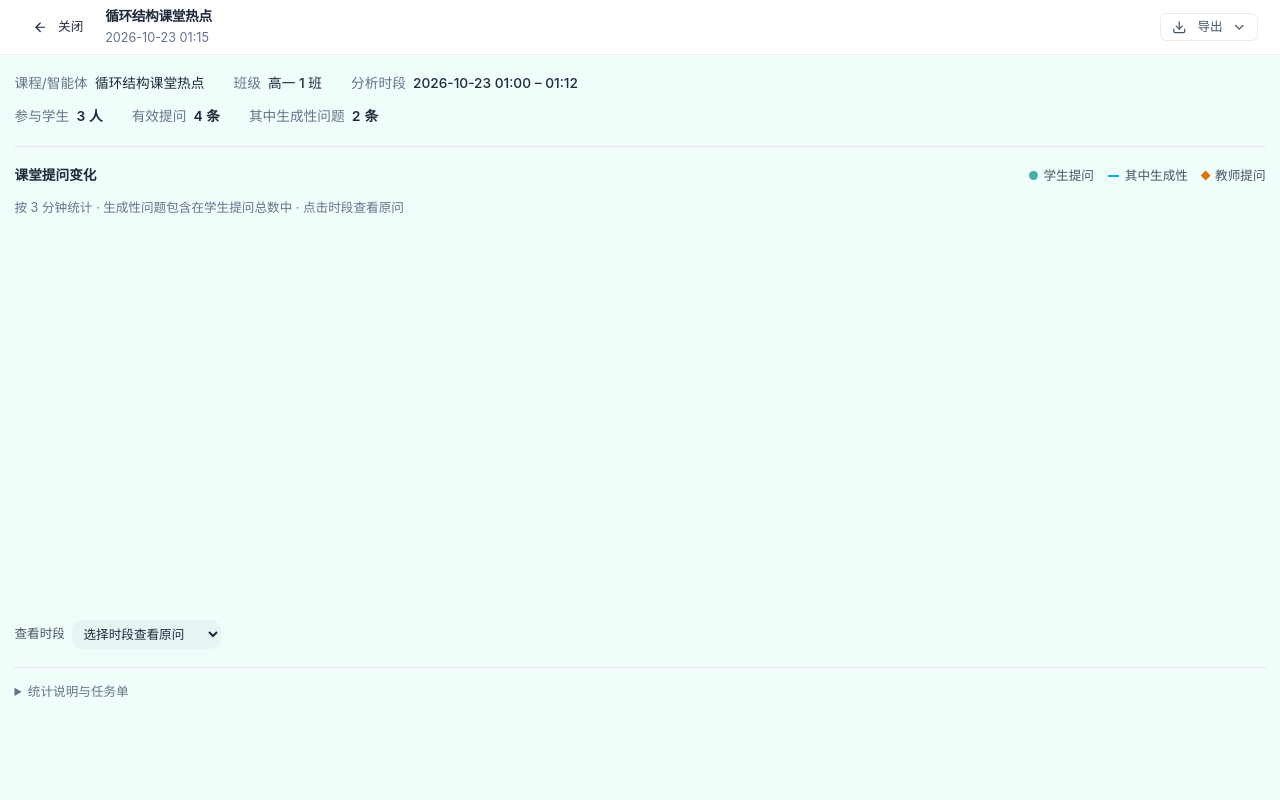
Test case: HotAnalysisResultPage › 只有摘要的旧记录明确标注，不能从摘要伪造逐条分类
Select "01:00 – 01:03 · 3 条" in the dropdown labelled "查看时段". click: point(146, 634)
box: [72, 620, 221, 649]
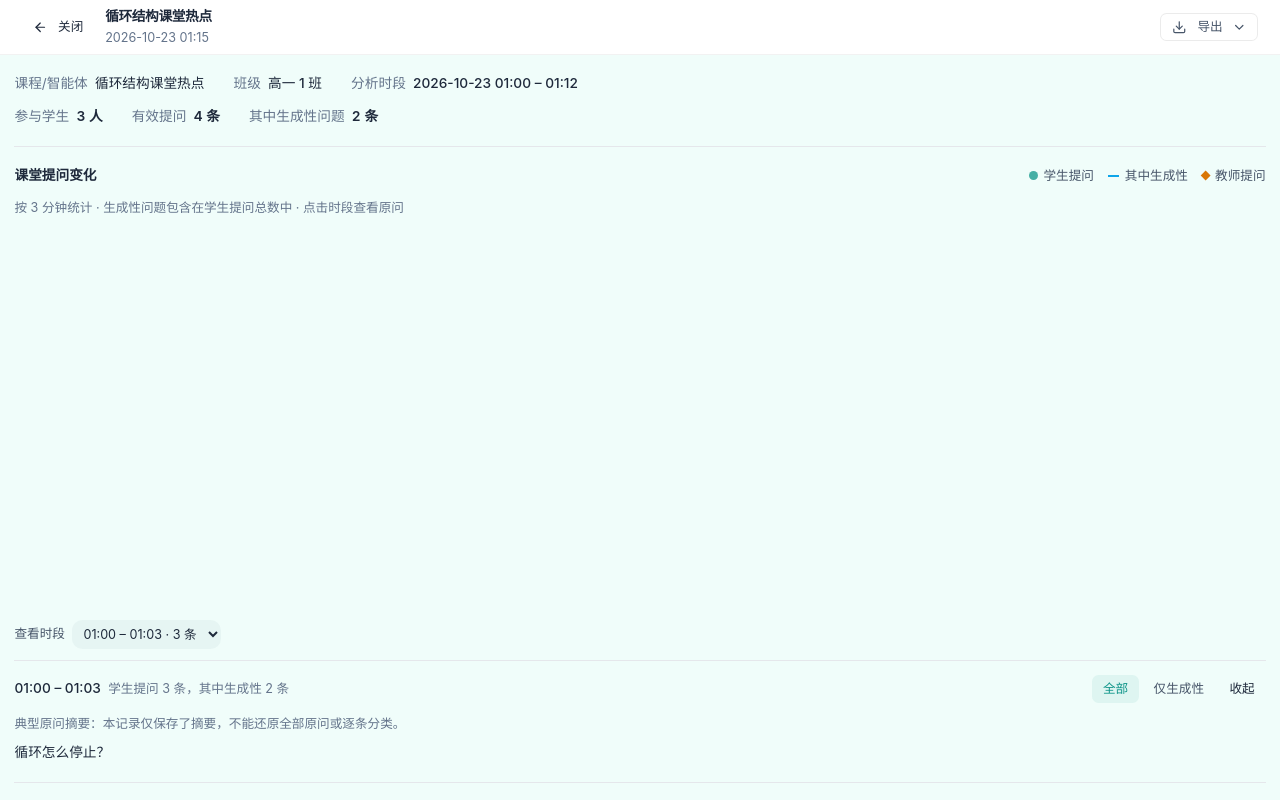
Expected: the text "典型原问摘要：本记录仅保存了摘要，不能还原全部原问或逐条分类。" is shown, [14, 716, 405, 731]
Click the button "仅生成性". click: point(1179, 689)
box: [1143, 675, 1215, 703]
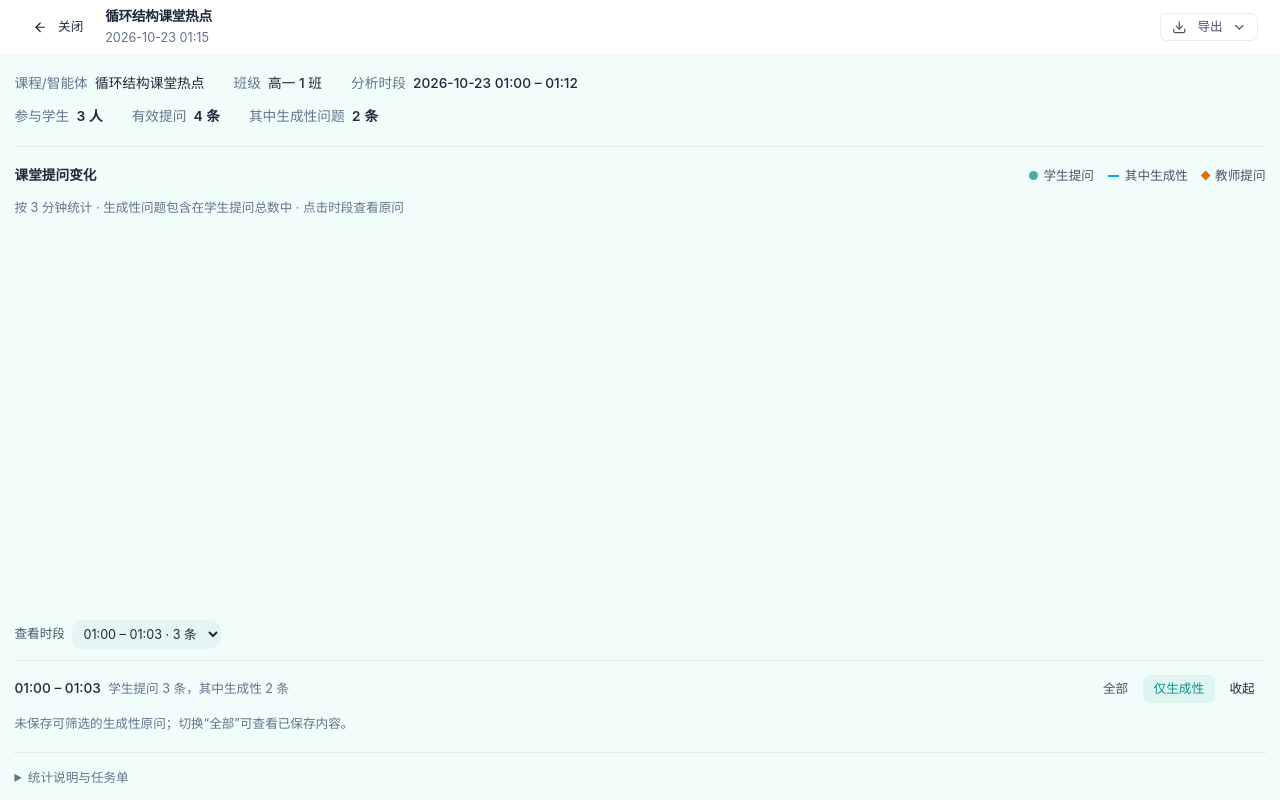
Expected: the text "未保存可筛选的生成性原问；切换“全部”可查看已保存内容。" is shown, [14, 716, 354, 731]
Expected: the list item "循环怎么停止？" is gone
